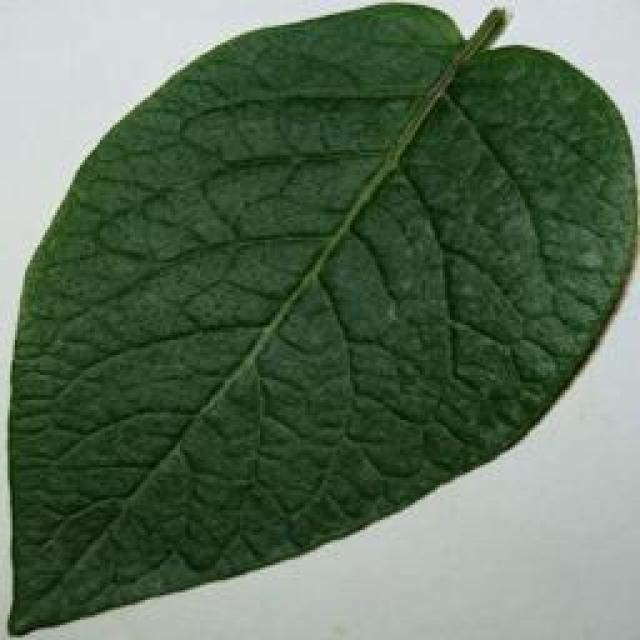Potato_Healthy: (4, 4, 632, 619)
